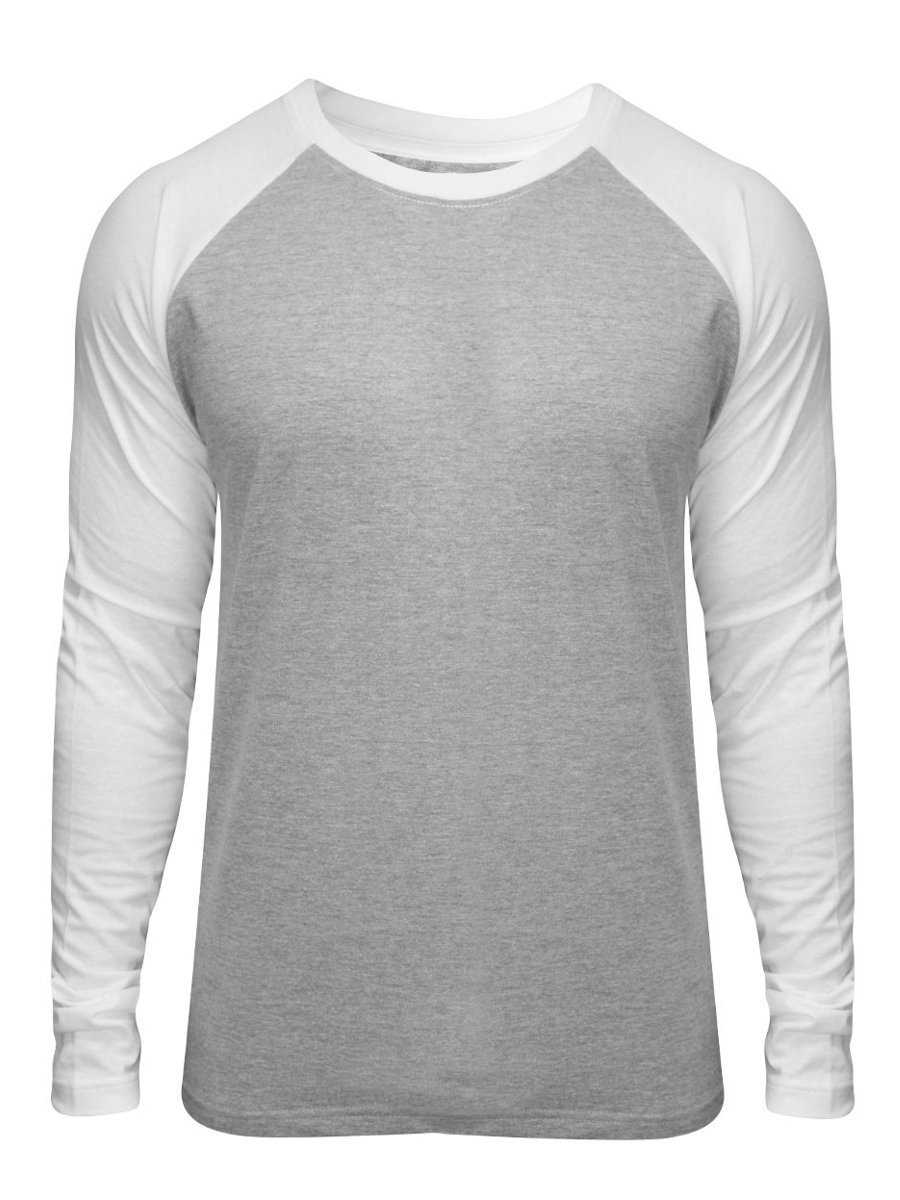T-Shirt: (46, 74, 879, 1142)
